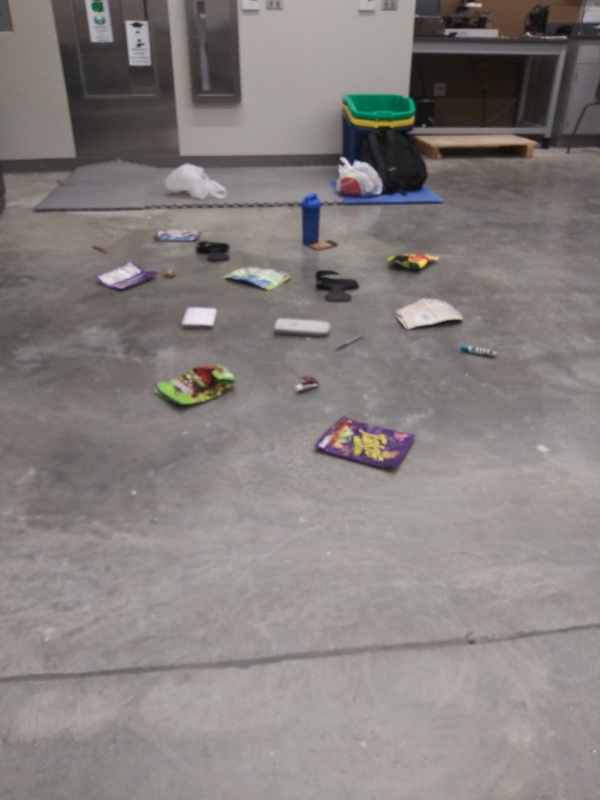bag: (305, 411, 418, 478), (148, 360, 240, 411), (385, 294, 468, 332), (92, 256, 159, 295), (218, 263, 298, 295), (379, 249, 447, 274), (151, 225, 206, 244)
